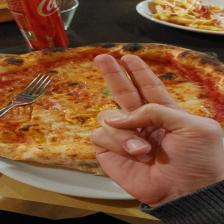two: (82, 50, 222, 195)
